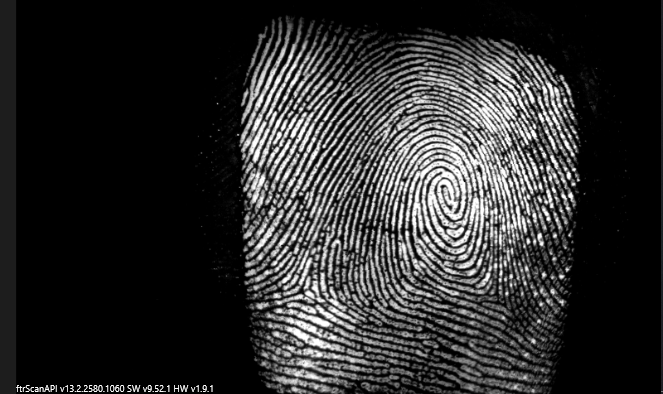deltas: (279, 261, 331, 315), (467, 265, 519, 319)
nucleo: (418, 159, 474, 220)
